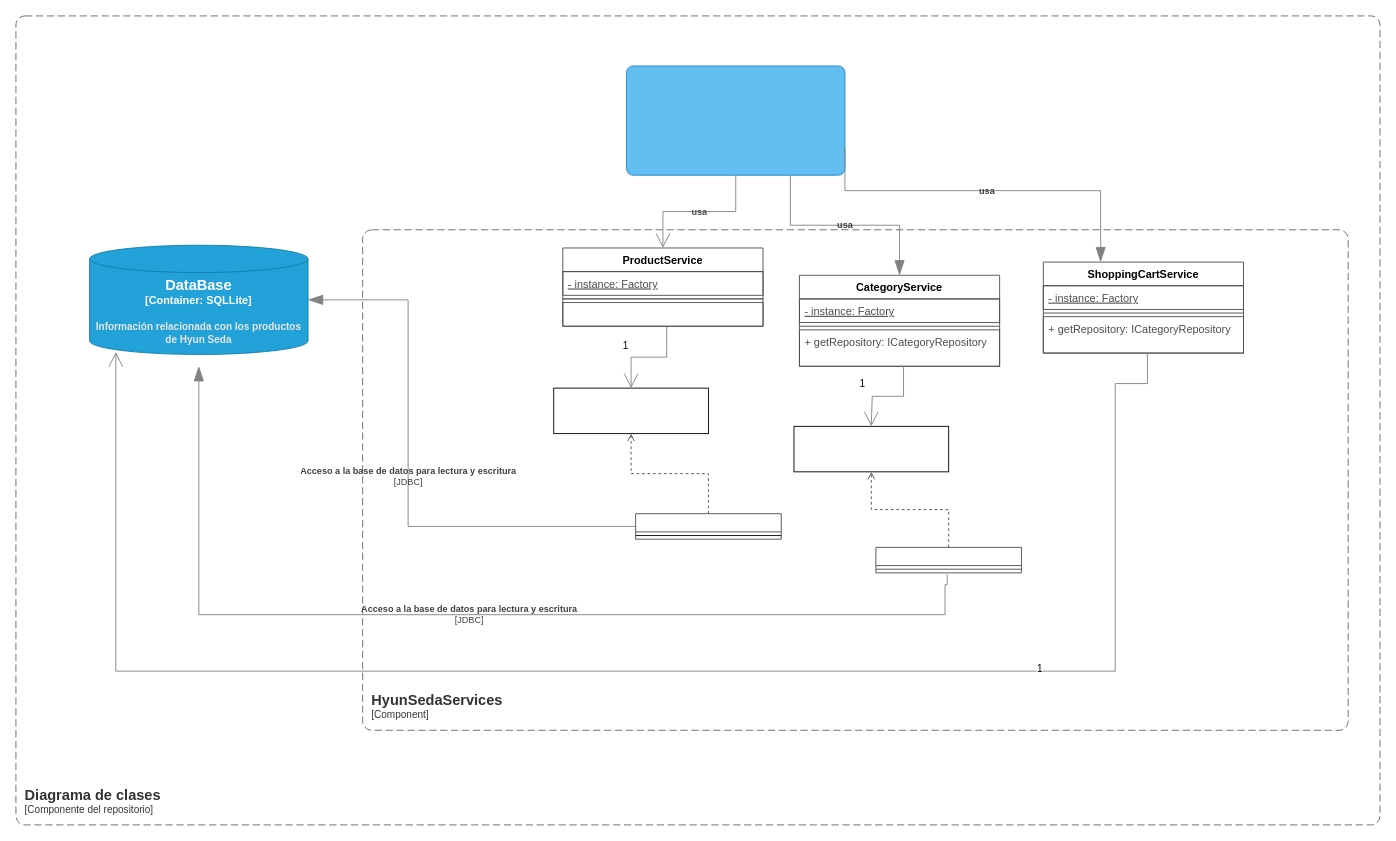
This 1396x841 diagram has some shape labels left out. The shapes that lost their labels are listed below. From the top down, each one's centre as x and y in pixels, then its label:
the point at 735,120: HyunSedaLogicaNegocio [Component: Java] Servicios
the point at 662,314: + getRepository: IProductRepositorio
the point at 630,410: «interface» IProductRepository
the point at 871,448: «interface» ICategoryRepository
the point at 708,526: ProductRepository
the point at 948,559: CategoryRepository
